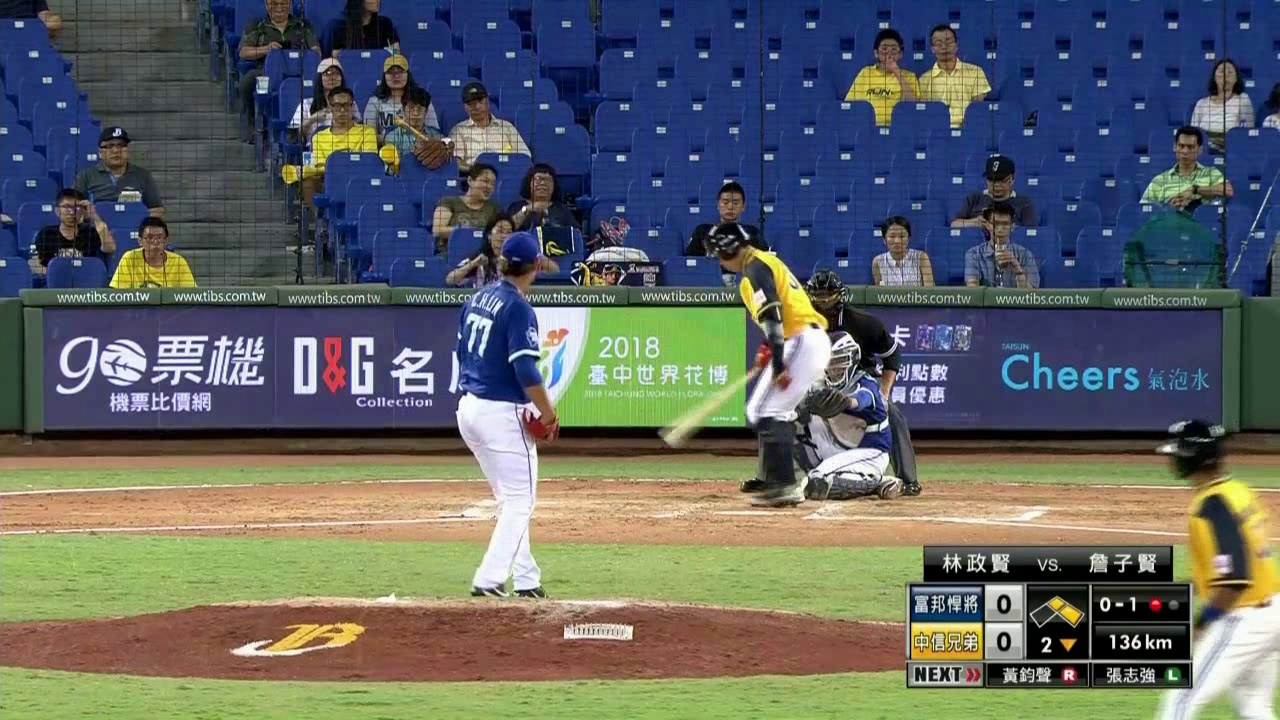base: (1028, 588, 1086, 626)
bat: (655, 367, 759, 453)
out: (1143, 589, 1186, 618)
score1: (988, 588, 1023, 618)
score2: (986, 625, 1019, 659)
session: (1029, 628, 1086, 657)
speed: (1093, 626, 1181, 661)
strikeball: (1094, 588, 1141, 622)
